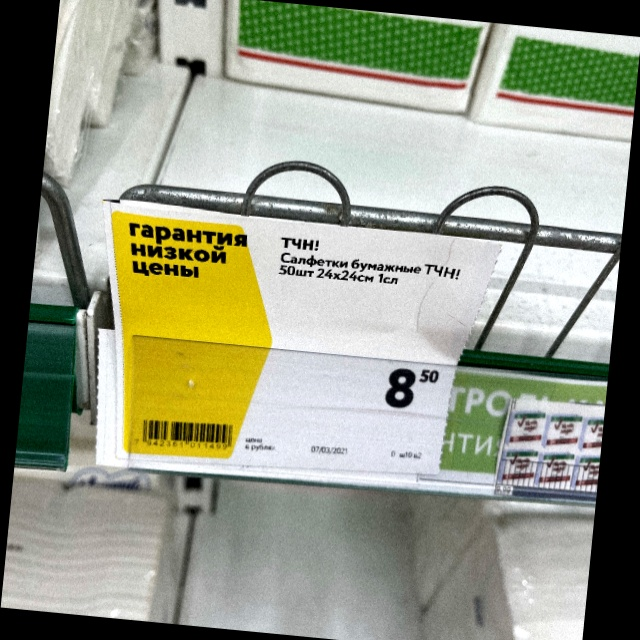barcode: (134, 414, 237, 450)
name: (275, 229, 463, 291)
price: (377, 365, 445, 414)
price_tag: (107, 199, 504, 484)
